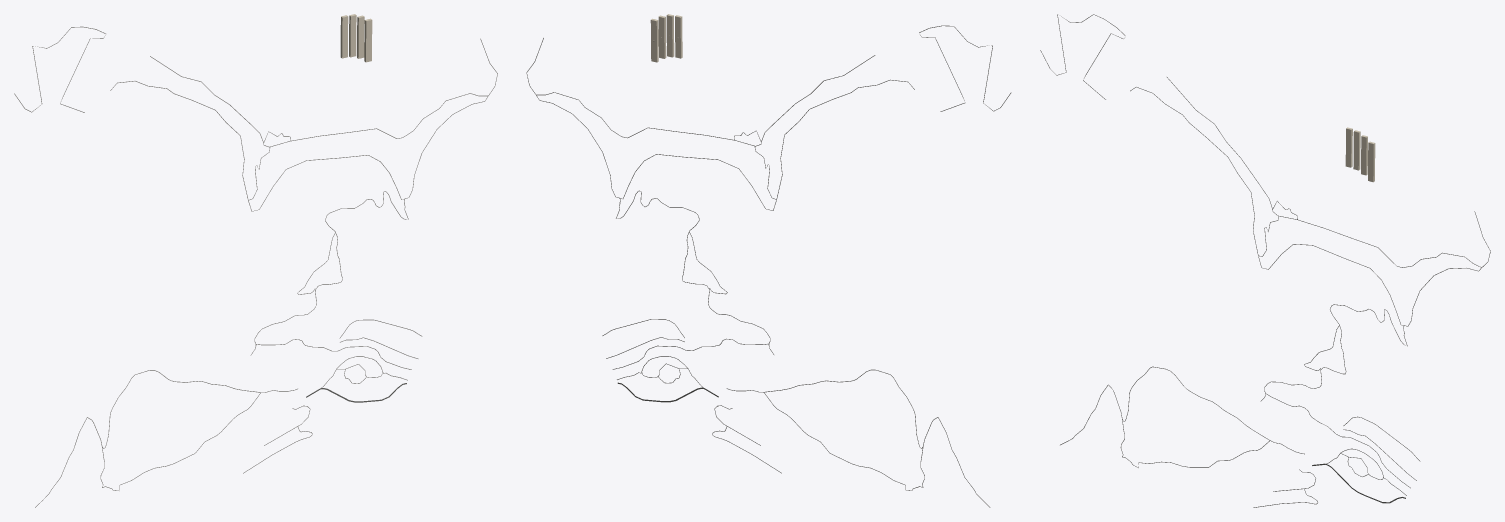
The model's file is historic-palestine-09_23_3512_3175.glb.
3 renders of one model, left to right at view 1: azimuth 30°, elevation 25°; view 2: azimuth 150°, elevation 25°; view 3: azimuth 330°, elevation 25°, orthographic. The views are drawn at different scales.
Parts seen in each view (by area): view 1: Road .004; view 2: Road .004; view 3: Road .004.
Boxes of the visible parts, left/top/right/bottom form: Road .004: left=110, top=38, right=497, bottom=211; Road .004: left=526, top=38, right=914, bottom=210; Road .004: left=1130, top=87, right=1490, bottom=326.
Bounding box in the file's own units: 1293 × 1247 × 8.7.
